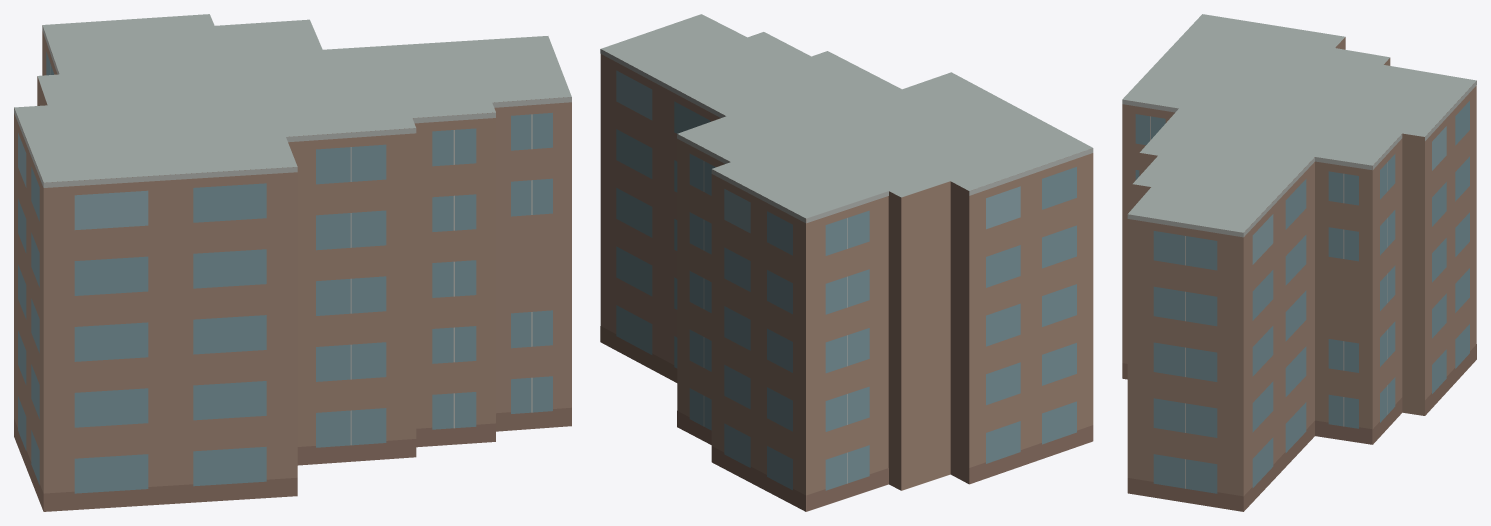
File: survey-upis-32783512.glb
3 renders of one model, left to right at view 1: azimuth 30°, elevation 25°; view 2: azimuth 150°, elevation 25°; view 3: azimuth 270°, elevation 25°, orthographic. The views are drawn at different scales.
Parts seen in each view (by area): view 1: survey-upis-32783512.tmp; view 2: survey-upis-32783512.tmp; view 3: survey-upis-32783512.tmp.
Boxes of the visible parts, x1=… form: survey-upis-32783512.tmp: x1=14, y1=14, x2=571, y2=511; survey-upis-32783512.tmp: x1=600, y1=14, x2=1093, y2=511; survey-upis-32783512.tmp: x1=1122, y1=14, x2=1476, y2=511.
Bounding box in the file's own units: 24.89 × 14.8 × 17.05.
